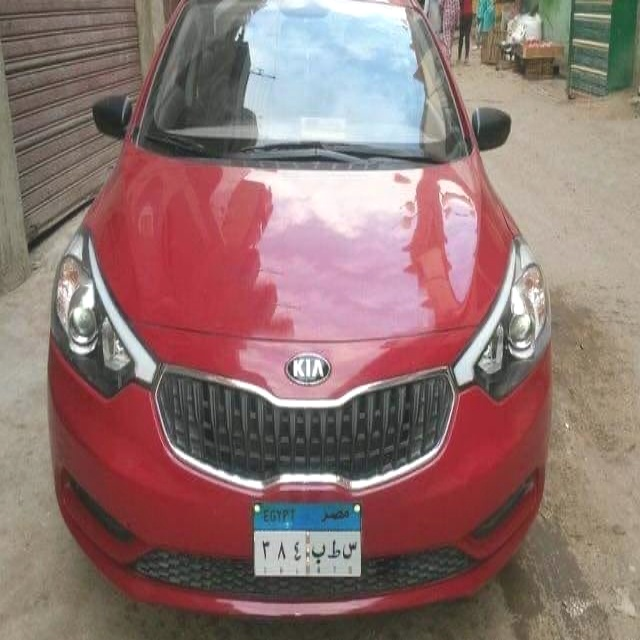License Plate: (250, 495, 364, 580)
